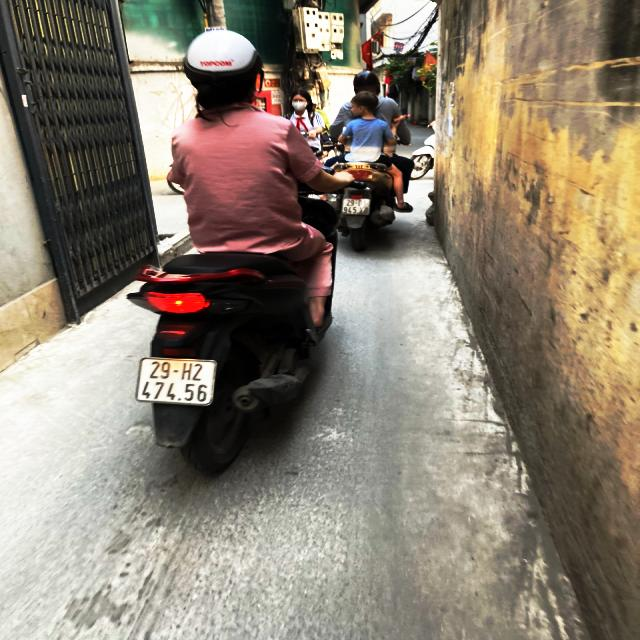license_plate: (132, 354, 225, 411), (340, 197, 374, 217)
